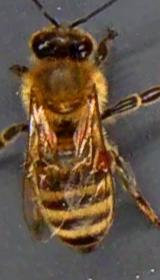varroa_mite: (85, 138, 120, 178)
